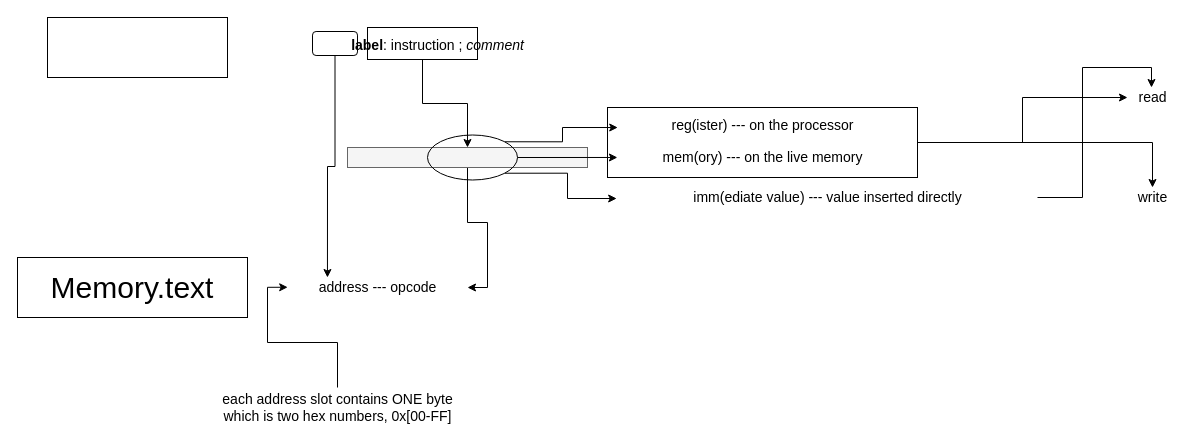
Some shapes in this 1200 by 445 pixel diagram are drawn without their labels. The shapes that lost their labels are listed below. From the top down, each one's box as (x1, y1, x2, y2) in pixels, then its label:
(46, 16, 228, 78): Code.line
(346, 146, 588, 168): operator [operand[, ...]]
